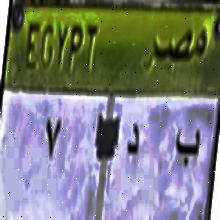7: (41, 108, 63, 166)
baa: (173, 119, 203, 173)
daal: (127, 115, 141, 167)
